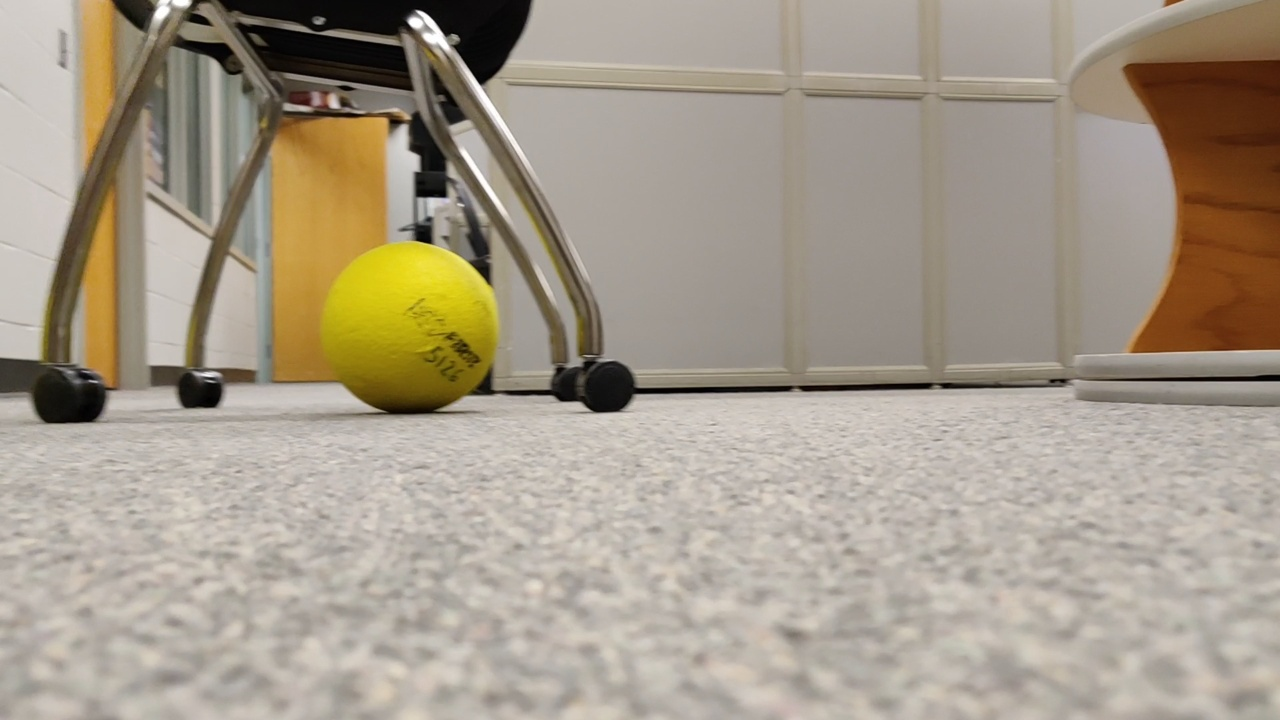Ball: (309, 240, 500, 412)
